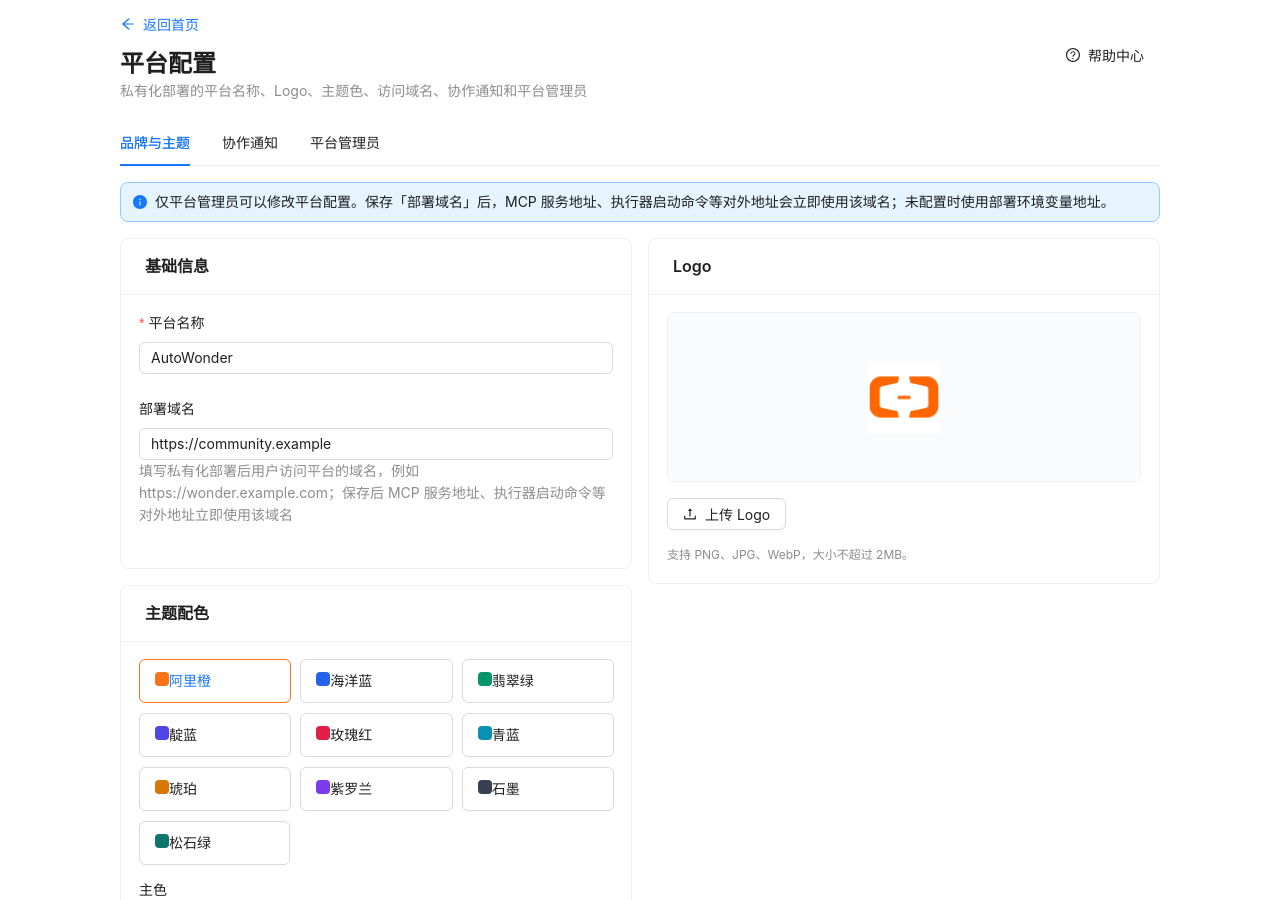
Test: BrandingConfigPage › uses backend dingtalk ready state even when credentials are present
Click the tab "协作通知": coordinates (250, 143) [222,132,278,154]
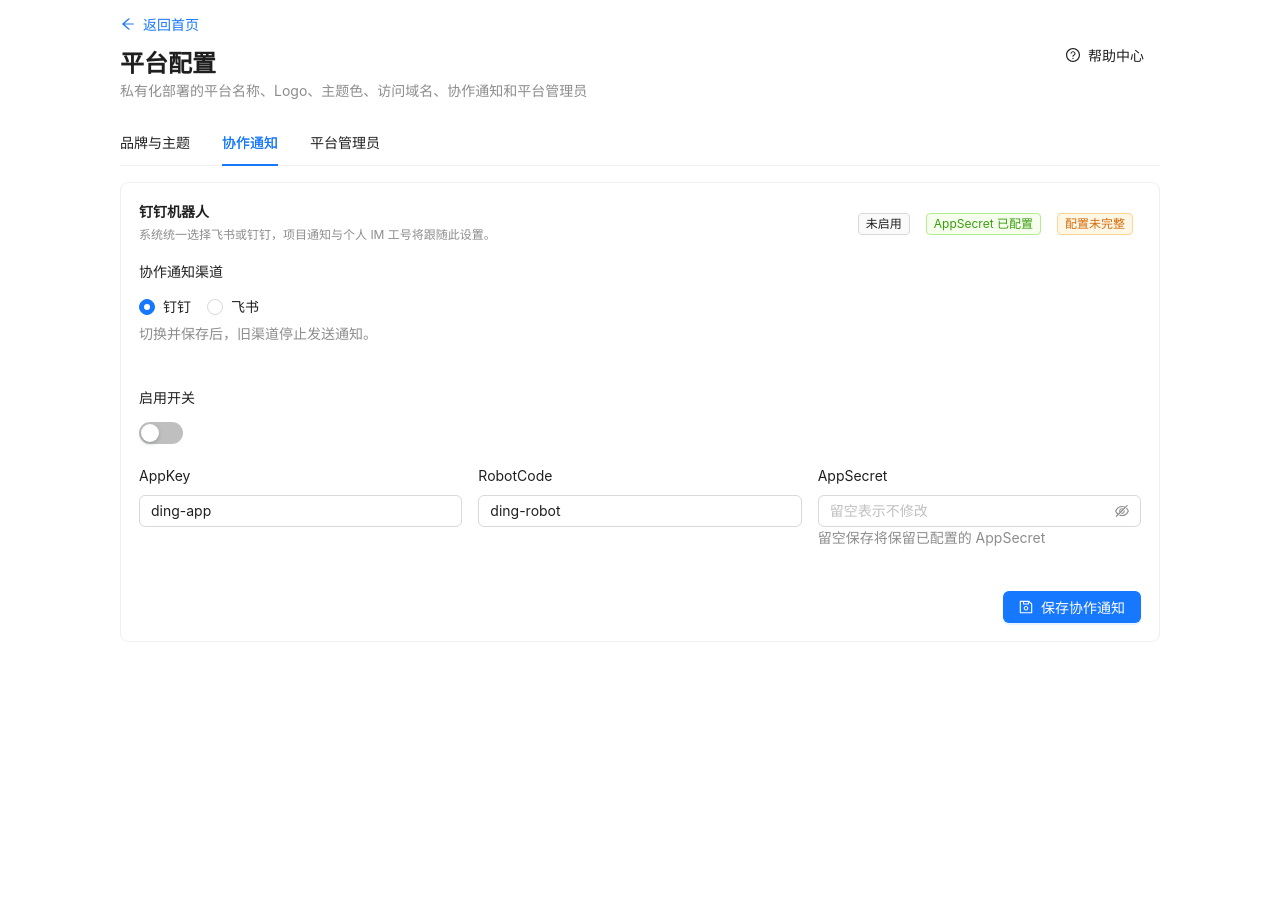
Check: the text "AppSecret 已配置" is shown, box [926,212,1041,234]
Check: the text "配置未完整" is shown, box [1057,212,1133,234]
